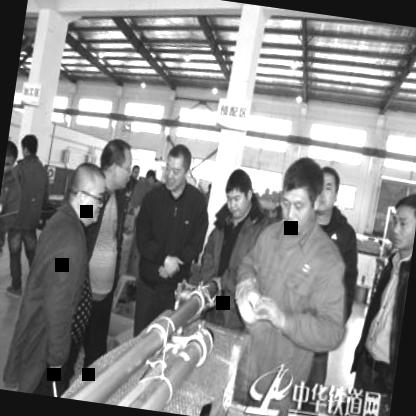head: (272, 150, 329, 243), (64, 158, 111, 231), (95, 130, 141, 192), (216, 164, 260, 221), (158, 138, 196, 200), (386, 188, 416, 261), (310, 162, 346, 216), (15, 131, 40, 163), (2, 136, 18, 178)
